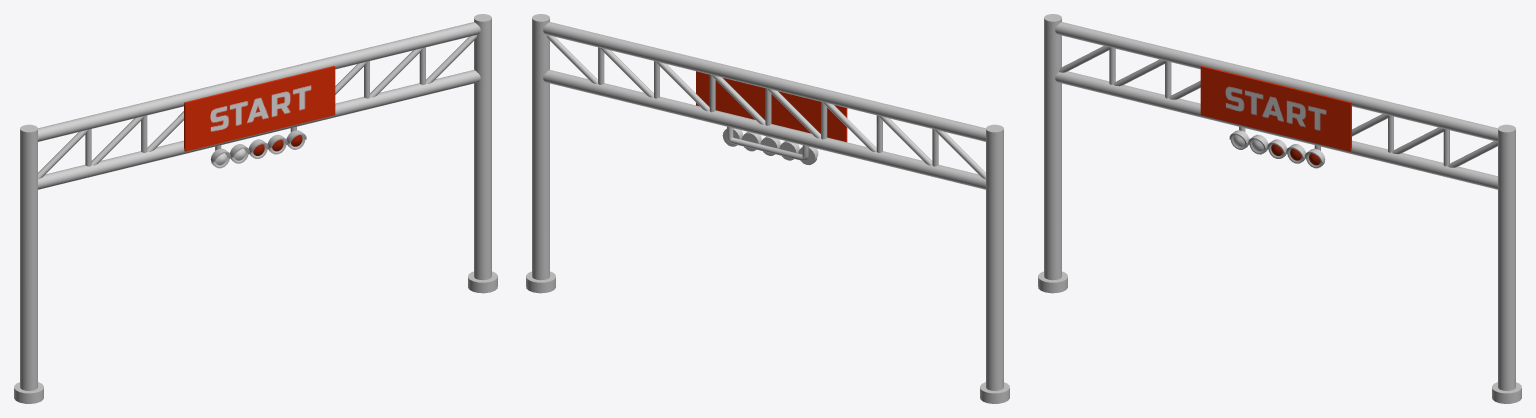
Rendered from Arch-Start_Red_Gantry.fbx.
3 renders of one model, left to right at view 1: azimuth 30°, elevation 25°; view 2: azimuth 150°, elevation 25°; view 3: azimuth 330°, elevation 25°, orthographic.
Visible parts, largest first — view 1: Arch-Start_Red_Gantry, Arch-Start_Red_Gantry-board, Arch-Start_Red_Gantry-poles-dia, Arch-Start_Red_Gantry-poles; view 2: Arch-Start_Red_Gantry, Arch-Start_Red_Gantry-board, Arch-Start_Red_Gantry-poles-dia, Arch-Start_Red_Gantry-poles, Arch-Start_Red_Gantry-Lights-holder; view 3: Arch-Start_Red_Gantry, Arch-Start_Red_Gantry-board, Arch-Start_Red_Gantry-poles-dia, Arch-Start_Red_Gantry-poles.
Part boxes in pixels (bbox=[...]): Arch-Start_Red_Gantry: bbox=[14, 14, 497, 403]; Arch-Start_Red_Gantry-board: bbox=[184, 66, 335, 151]; Arch-Start_Red_Gantry-poles-dia: bbox=[38, 35, 476, 179]; Arch-Start_Red_Gantry-poles: bbox=[85, 47, 425, 166]; Arch-Start_Red_Gantry: bbox=[526, 14, 1009, 403]; Arch-Start_Red_Gantry-board: bbox=[696, 71, 847, 142]; Arch-Start_Red_Gantry-poles-dia: bbox=[547, 35, 985, 179]; Arch-Start_Red_Gantry-poles: bbox=[598, 47, 938, 166]; Arch-Start_Red_Gantry-Lights-holder: bbox=[727, 126, 808, 160]; Arch-Start_Red_Gantry: bbox=[1038, 14, 1521, 403]; Arch-Start_Red_Gantry-board: bbox=[1200, 66, 1351, 151]; Arch-Start_Red_Gantry-poles-dia: bbox=[1059, 46, 1497, 167]; Arch-Start_Red_Gantry-poles: bbox=[1109, 47, 1449, 166].
Bounding box in the file's own units: 840 × 450 × 45.82.
